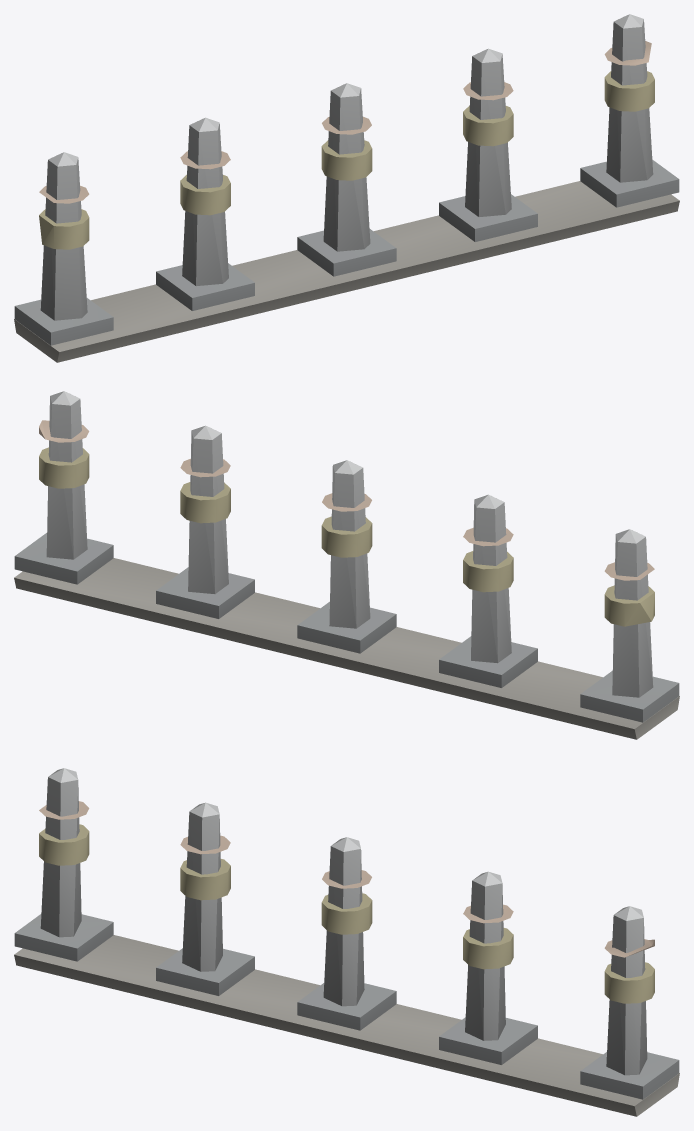
The model's file is bollards.lod1.glb.
3 renders of one model, top to bottom at view 1: azimuth 30°, elevation 25°; view 2: azimuth 150°, elevation 25°; view 3: azimuth 330°, elevation 25°, orthographic.
Size of the model in its own units: 4 by 1.15 by 0.5.
